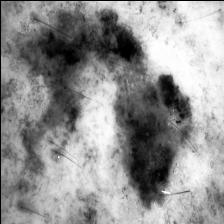Potentially Malignant Skin Tumors: (17, 9, 194, 210)
